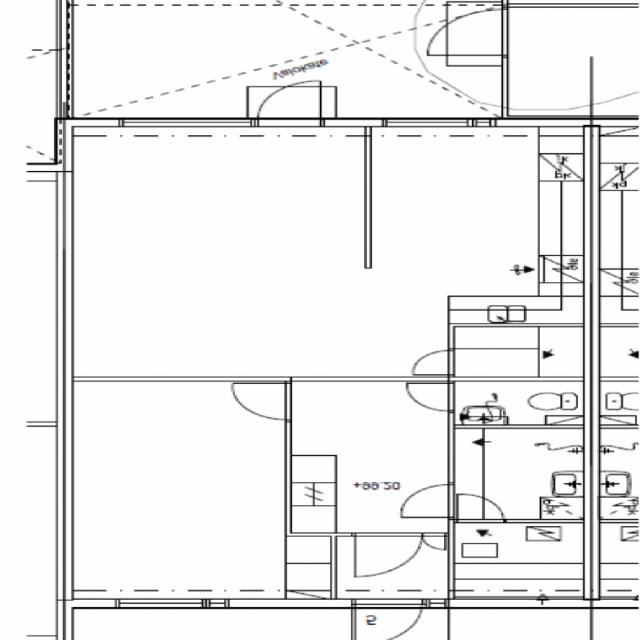door: (429, 10, 511, 54), (258, 78, 324, 127), (355, 532, 423, 576), (355, 597, 424, 640), (225, 383, 292, 419), (396, 484, 454, 516), (400, 382, 454, 411), (458, 489, 504, 522), (408, 350, 455, 374), (423, 532, 446, 550)
